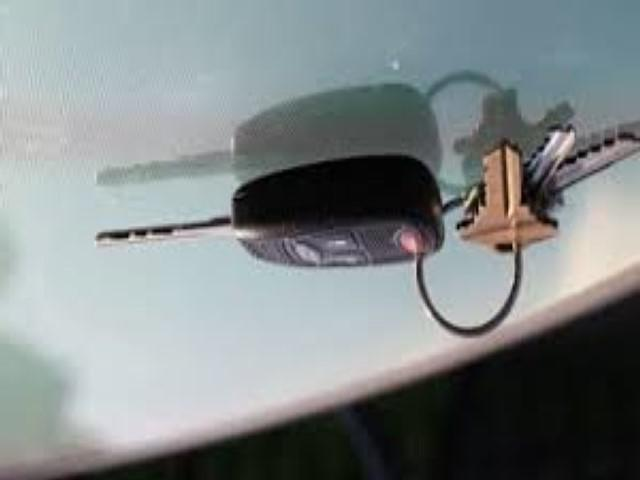key: (92, 152, 444, 444)
